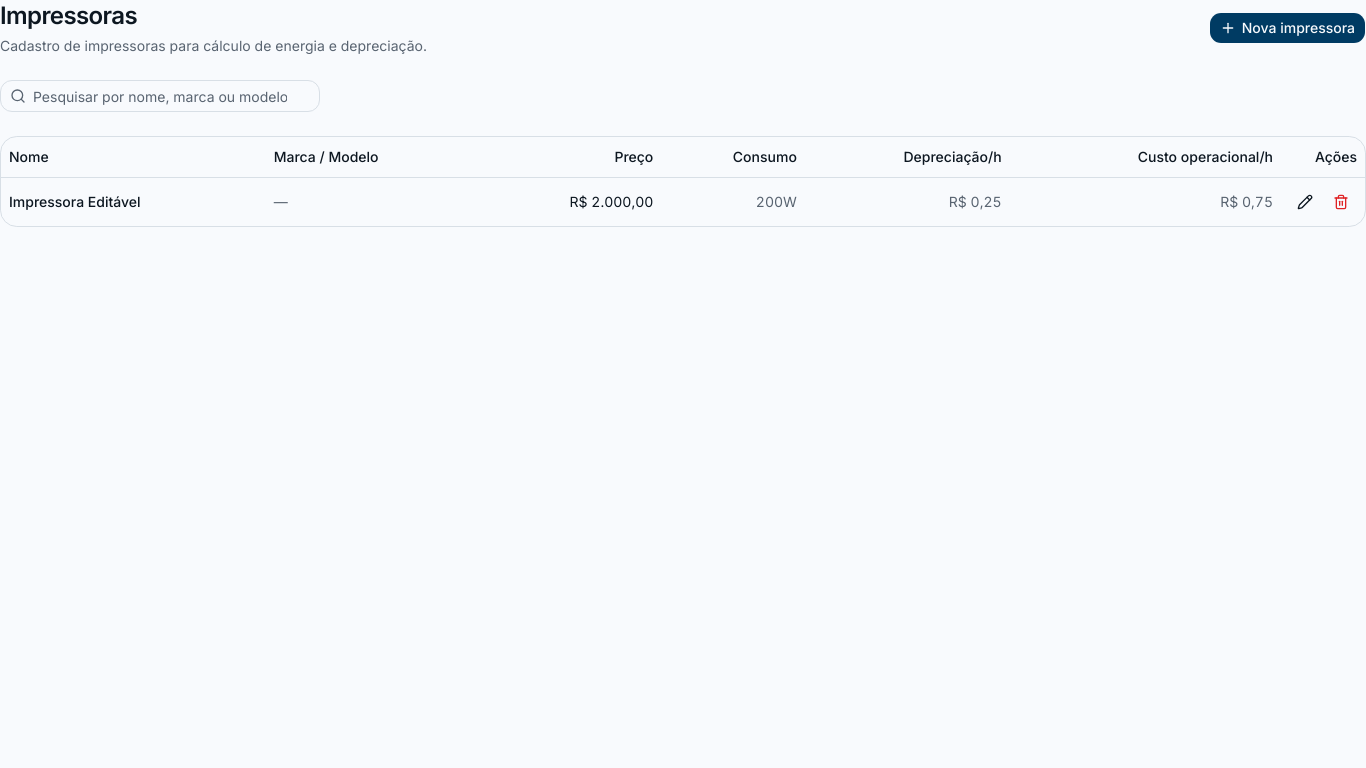
Test: PrintersPage › edita e exclui uma impressora existente
Expected: the text "Impressora Editável" is shown, [1,177,266,226]
Click the button named "Editar Impressora Editável" at (1305, 202), box [1289,186,1321,218]
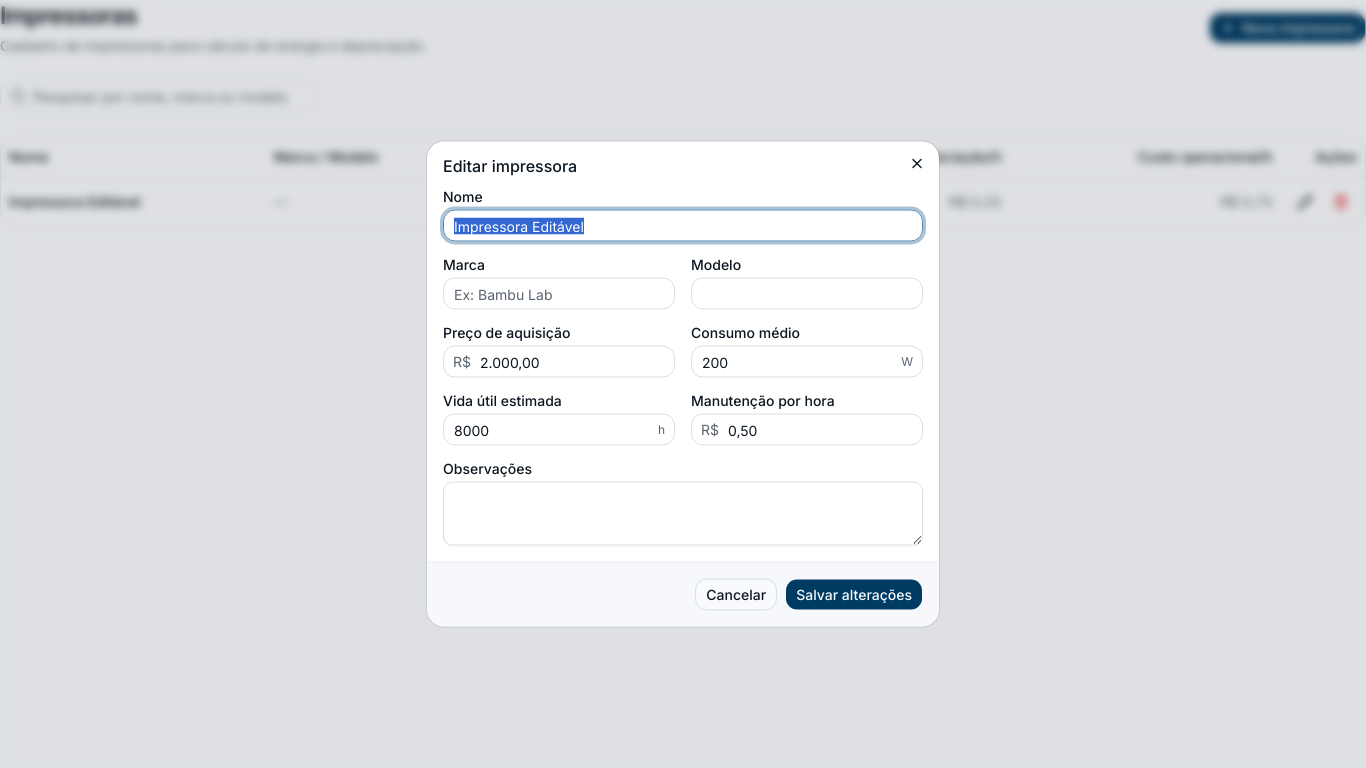
Replace the text in the number field labelled "Consumo médio" with "300" at (807, 362), box [691,346,923,378]
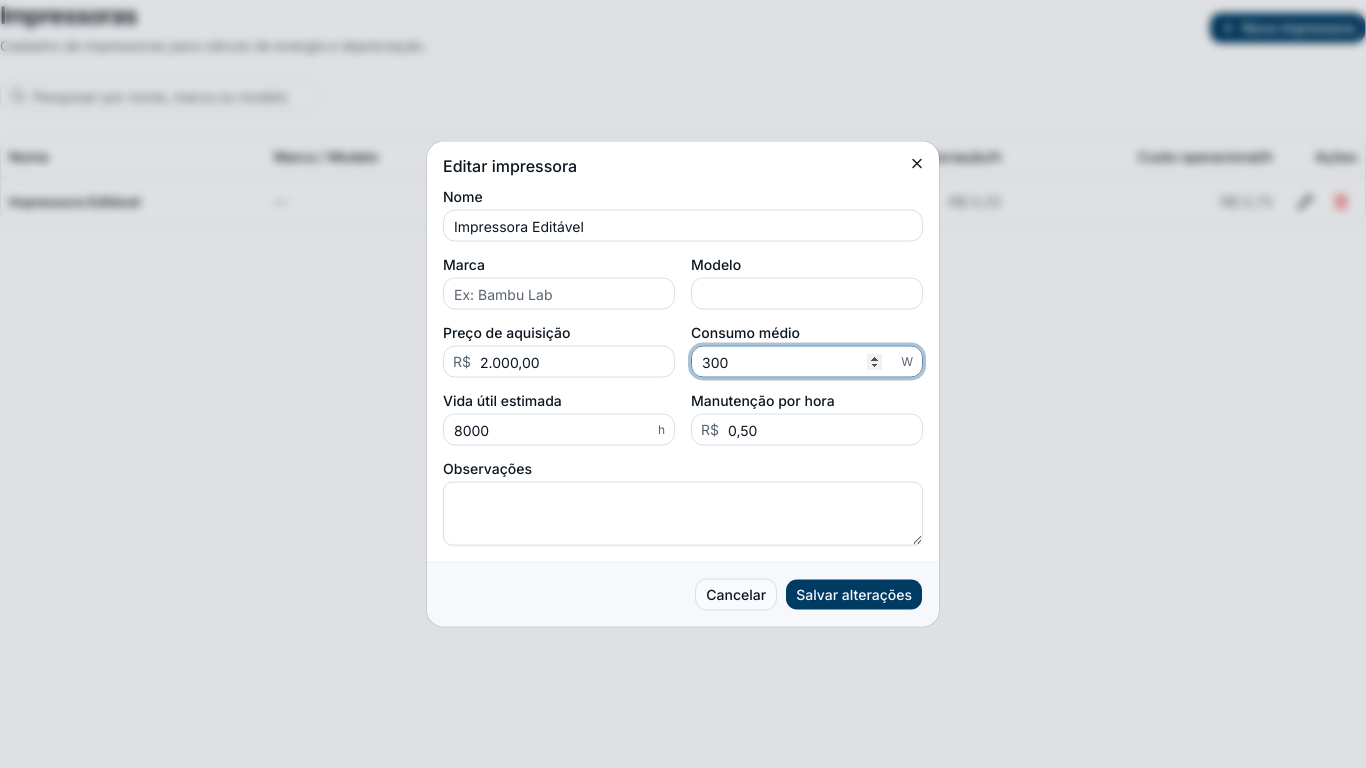
Click the button "Salvar alterações" at (854, 594), box [785,578,923,610]
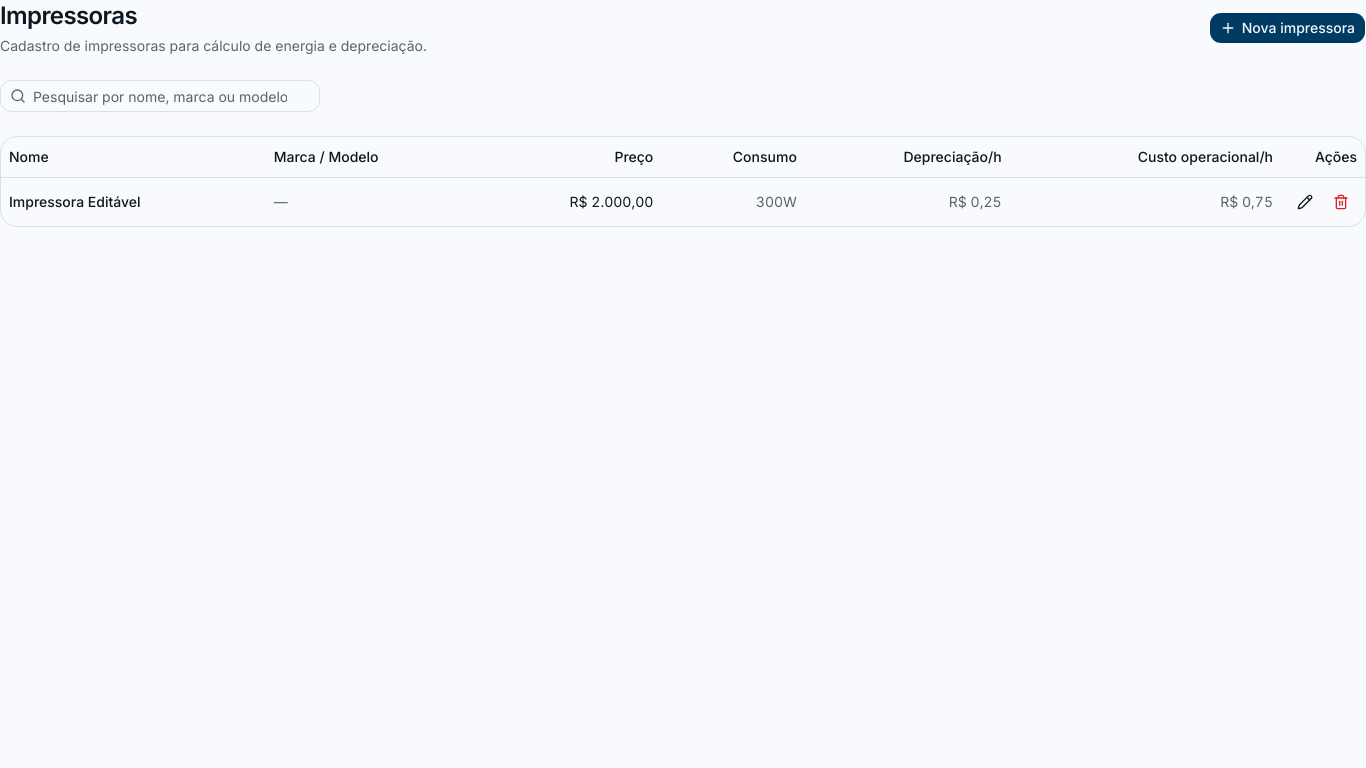
Expected: the text "Impressora Editável" is shown, [1,177,266,226]
Click the button named "Excluir Impressora Editável" at (1341, 202), box [1325,186,1357,218]
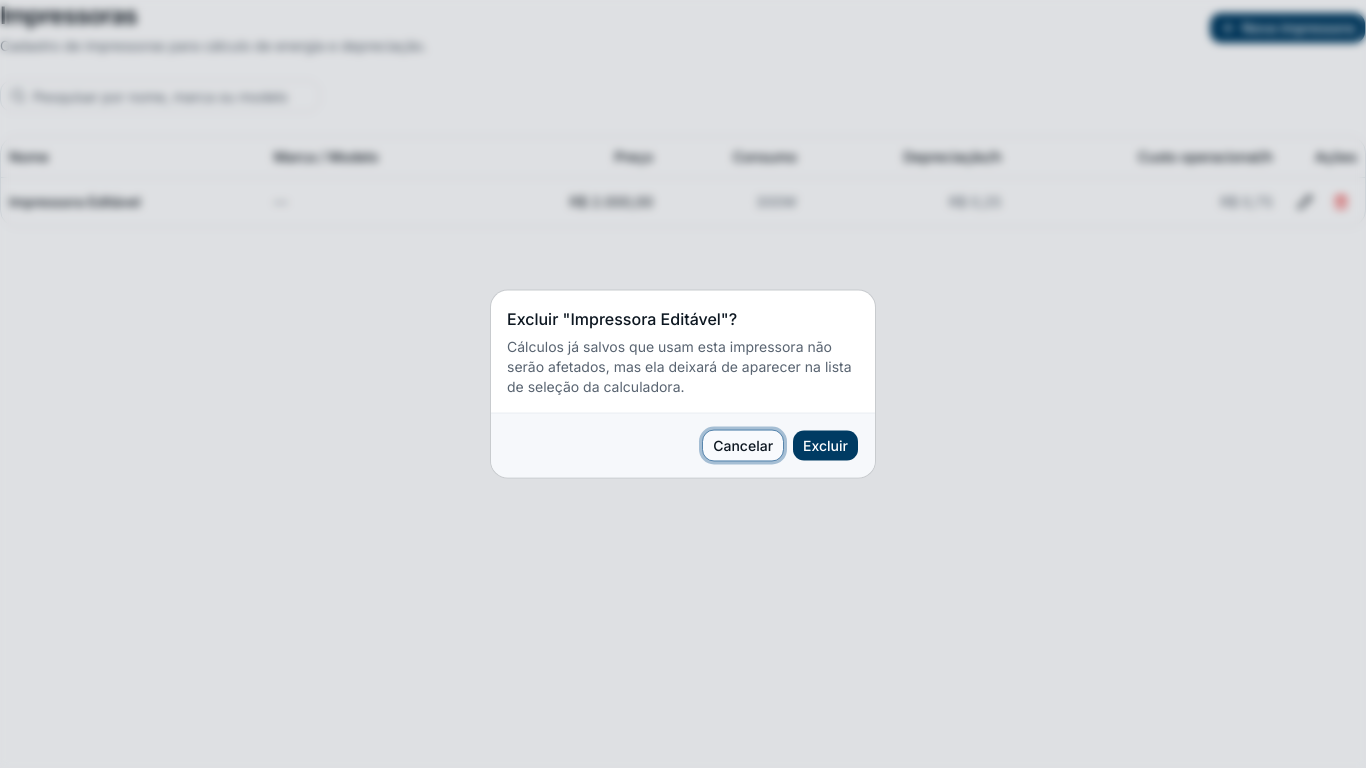
Click the button "Excluir" at (826, 446), box [792,430,859,462]
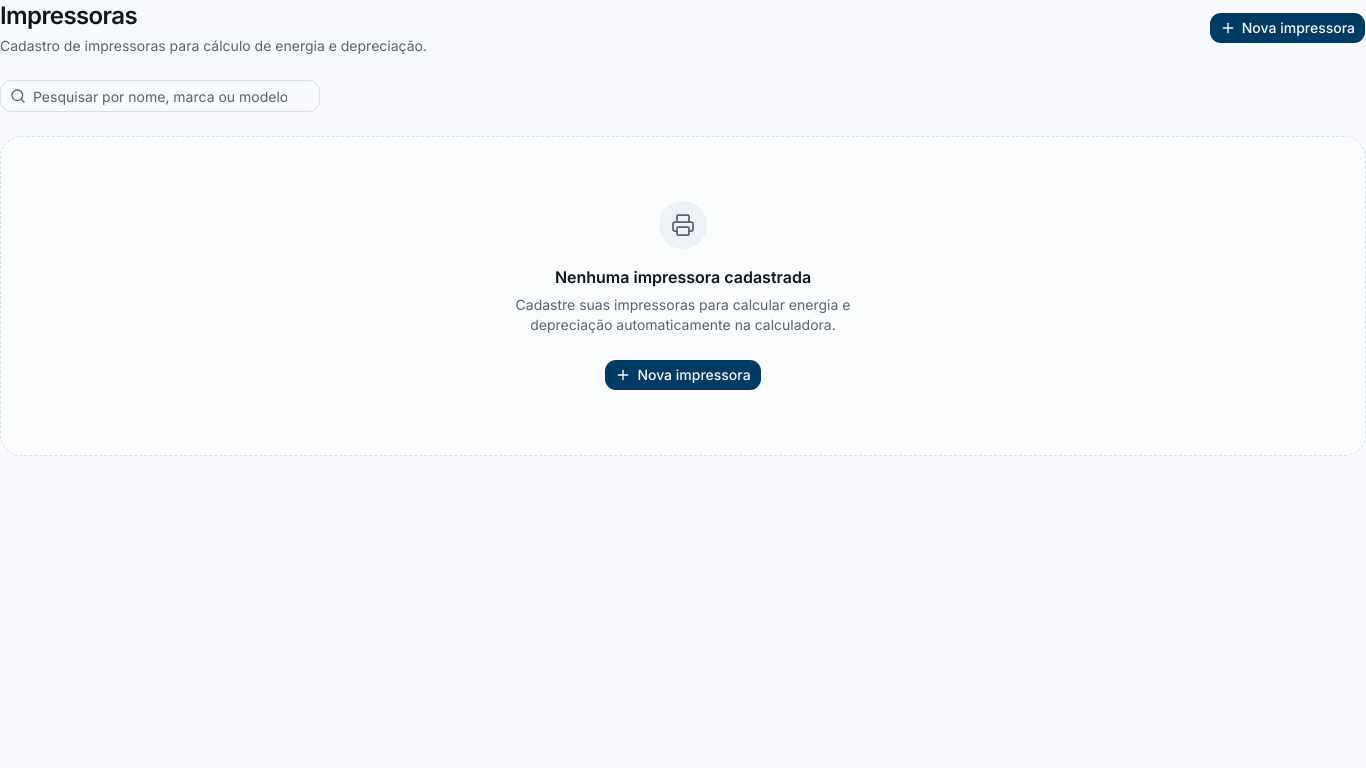
Result: the text "Impressora Editável" is gone
